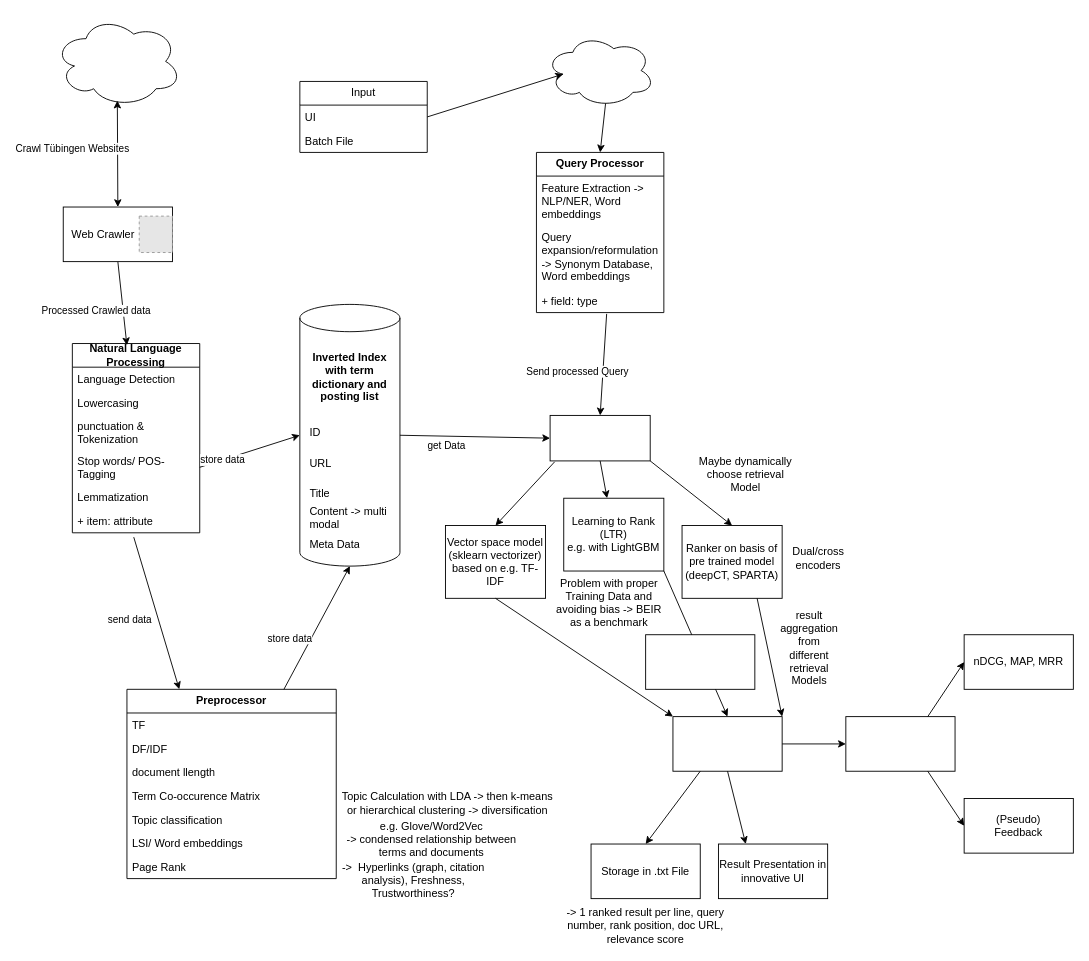
Image size: 1089x961. Some labels were removed from this diagram. Grey dashed boxes stand in for pictures. The shapes that lost their labels are listed below. From the top down, each one's centre as x and y in pixels, then its label:
[117,61]: Internet
[600,70]: incoming Query
[599,438]: Ranking
[700,661]: LLM Agent (Semantic Understanding)
[727,743]: Results: Top ranked Documents for Query
[900,743]: Evaluaion
